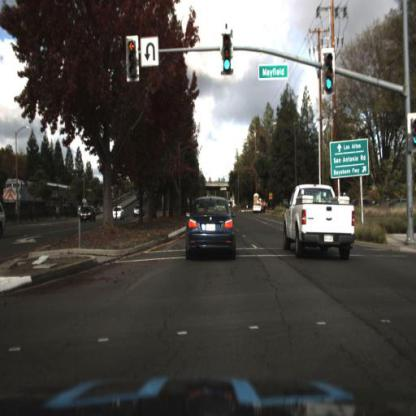car: (282, 181, 358, 264), (183, 194, 240, 268), (77, 204, 97, 230), (252, 192, 266, 215), (253, 190, 265, 213), (112, 205, 126, 223), (133, 205, 144, 220)
trafficLight-Green: (320, 59, 334, 99), (221, 41, 235, 80)
trafficLight-RedLeft: (126, 34, 142, 79)
